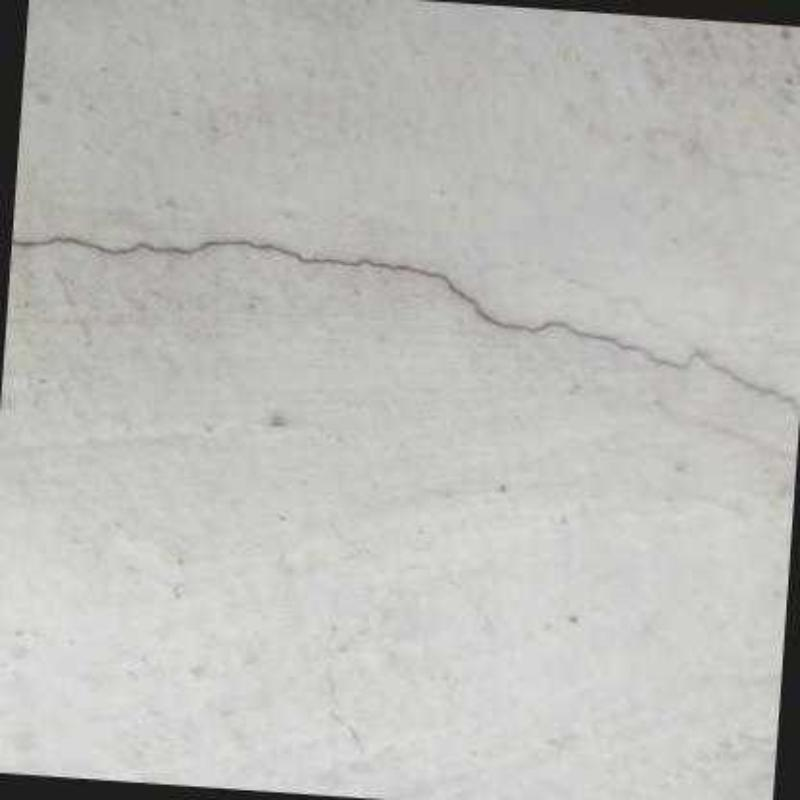crack: (10, 237, 799, 417)
